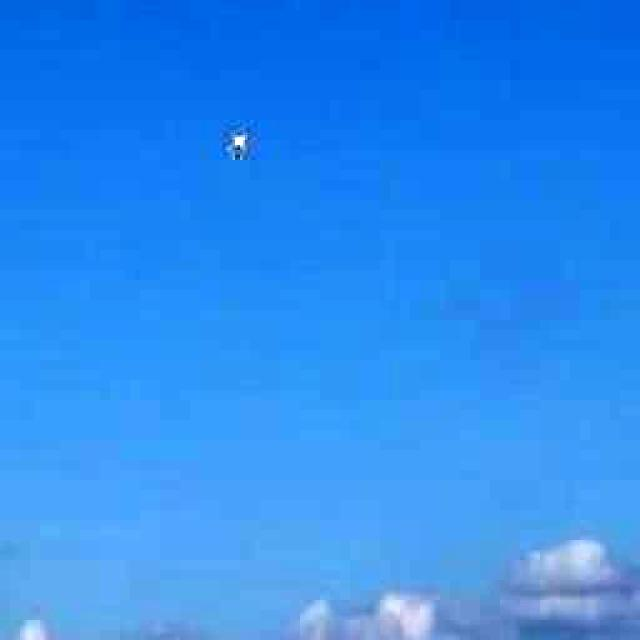bird: (210, 110, 260, 182)
